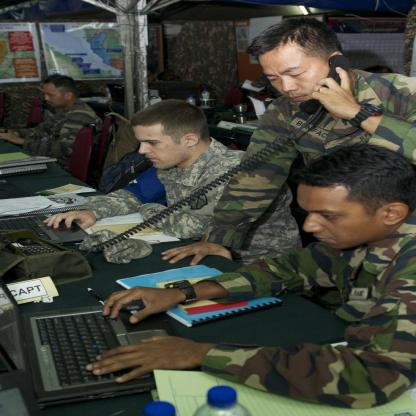board: (0, 279, 202, 404), (0, 211, 89, 245)
